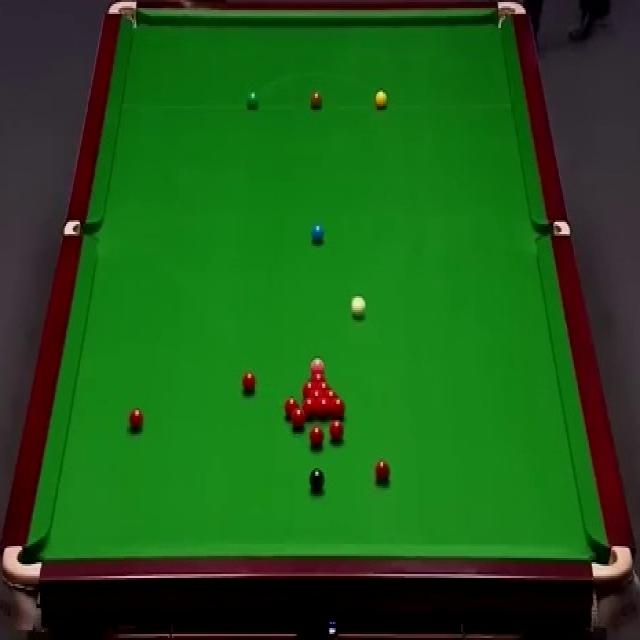black-ball: (308, 468, 324, 494)
blue-ball: (311, 224, 324, 243)
brown-ball: (310, 91, 323, 110)
green-ball: (247, 90, 260, 110)
pink-ball: (311, 356, 325, 368)
red-ball: (126, 405, 144, 433), (374, 458, 390, 482), (329, 420, 345, 442), (301, 397, 316, 420), (243, 371, 257, 395), (331, 396, 346, 418), (310, 426, 324, 449), (292, 408, 306, 431), (284, 396, 298, 419), (317, 396, 331, 418), (302, 380, 315, 396), (310, 370, 328, 380), (316, 380, 332, 390), (308, 389, 324, 397), (324, 389, 338, 398)
white-ball: (349, 294, 366, 318)
yellow-ball: (376, 91, 388, 109)
